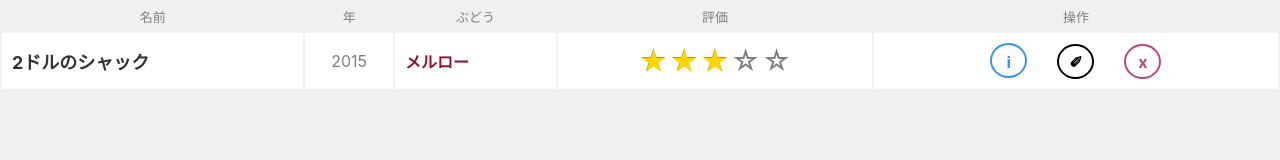
Test: Editing data › saves new data
Double-click the cell "2ドルのシャック" at (153, 61), box [2, 33, 303, 89]
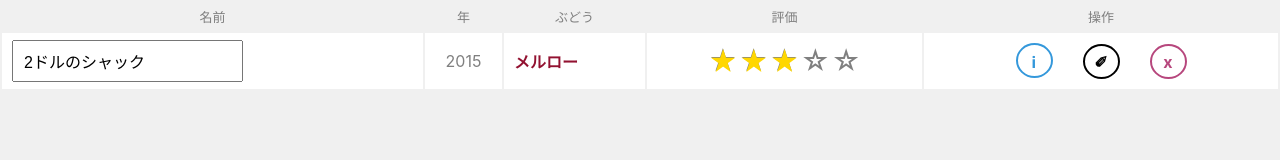
Replace the text in the field with "$2.99 chuck" at (128, 61), box [12, 40, 243, 82]
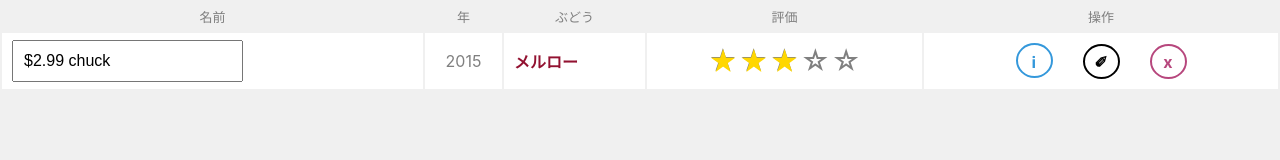
Submit the form, box [12, 40, 243, 82]
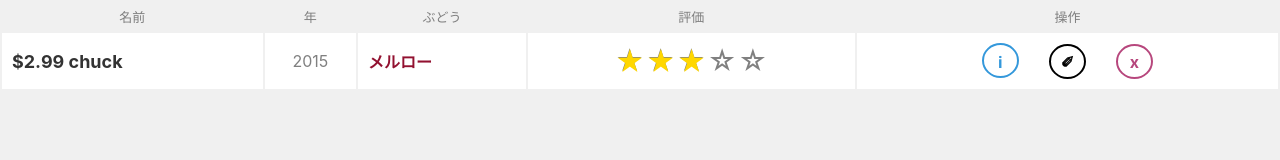
Expected: the cell "$2.99 chuck" is shown, [2, 33, 263, 89]
